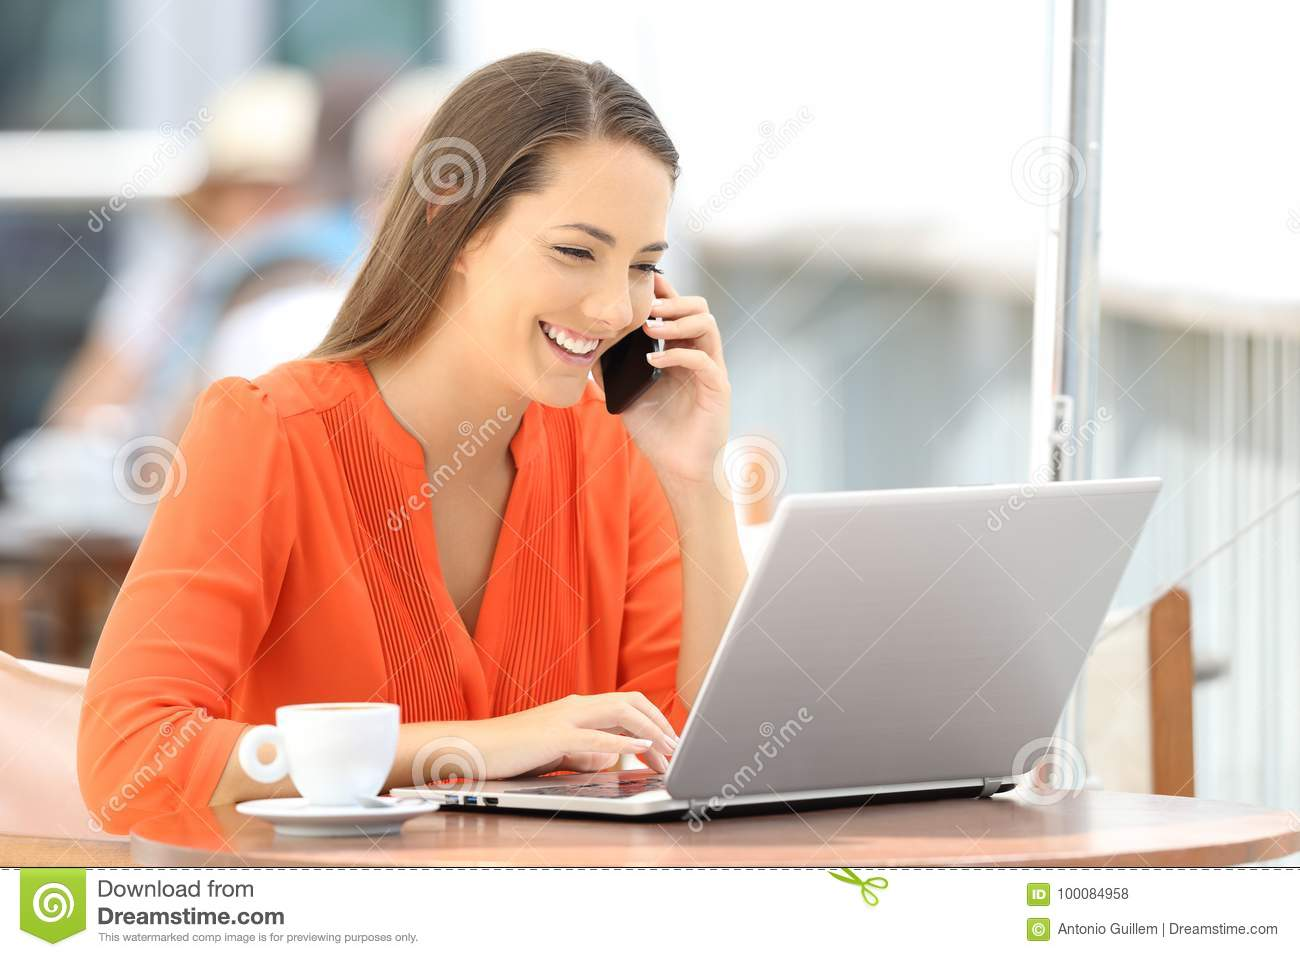phone: (605, 318, 662, 418)
talk: (514, 215, 735, 503)
